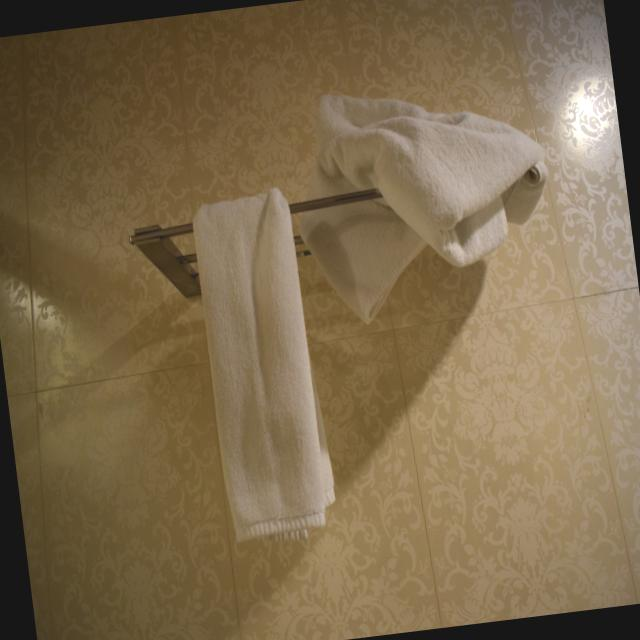mess: (113, 61, 640, 487)
